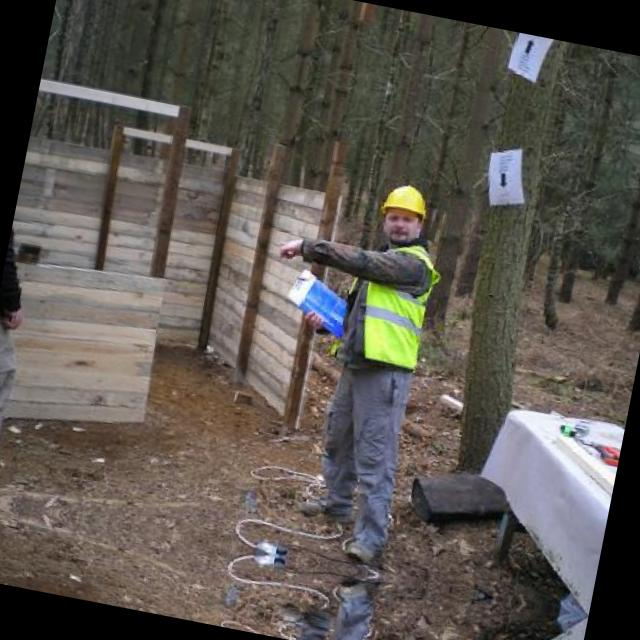helmet: (374, 180, 434, 251)
